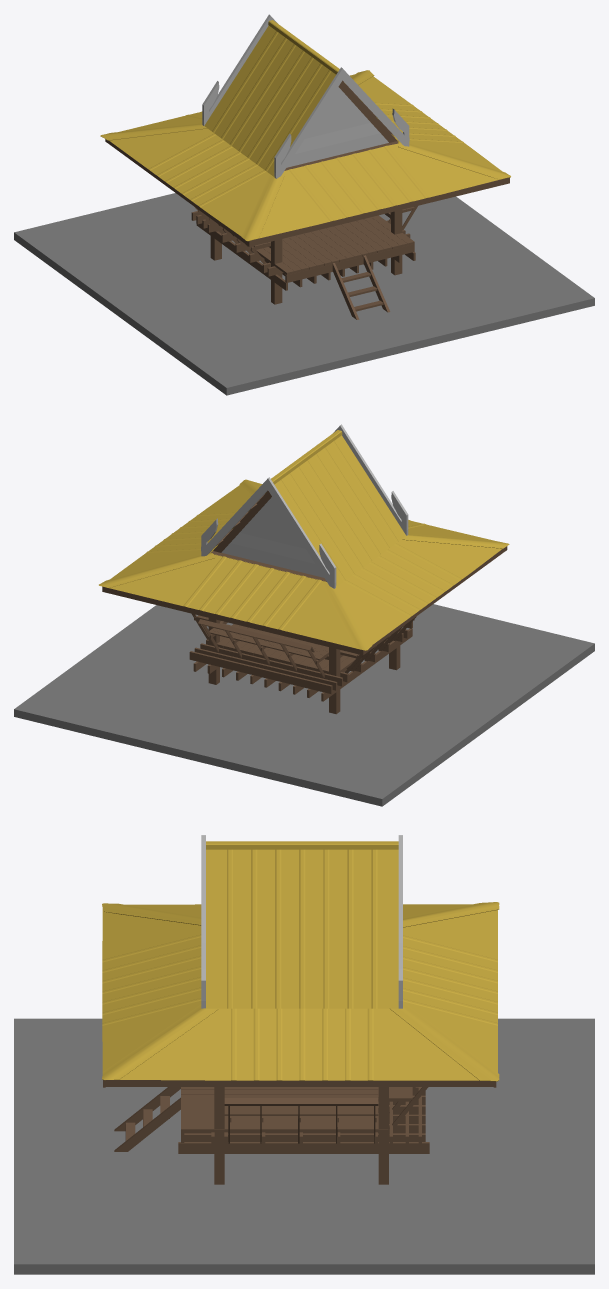
Rendered from sala.glb.
3 renders of one model, top to bottom at view 1: azimuth 30°, elevation 25°; view 2: azimuth 150°, elevation 25°; view 3: azimuth 270°, elevation 25°, orthographic. The views are drawn at different scales.
Visible parts, largest first — view 1: Plane.007_50, Plane.001_26, Plane.003_28, Plane_24, Cube.001_1, Cube.035_39, Cube.037_41, Plane.005_45, Cube.025_29, Cube.004_4, Cube.006_6, Cube.038_42 (+7 smaller); view 2: Plane.007_50, Plane.001_26, Plane.002_27, Plane_24, Cube.036_40, Cube.038_42, Cube.021_22, Plane.006_46, Cube.001_1, Cube.026_30, Cube.008_8, Cube.004_4 (+9 smaller); view 3: Plane.007_50, Plane_24, Plane.001_26, Plane.003_28, Plane.002_27, Cube.001_1, Cube.020_21, Plane.006_46, Plane.005_45, Cube.005_5, Cube.027_31, Cube.004_4 (+6 smaller).
Boxes of the visible parts, x1,y1,x2,y2 form: Plane.007_50: (14, 193, 594, 395); Plane.001_26: (109, 76, 501, 236); Plane.003_28: (259, 143, 498, 238); Plane_24: (204, 20, 378, 176); Cube.001_1: (218, 215, 414, 274); Cube.035_39: (286, 87, 388, 167); Cube.037_41: (274, 67, 409, 178); Plane.005_45: (241, 141, 510, 241); Cube.025_29: (248, 177, 509, 246); Cube.004_4: (196, 223, 401, 290); Cube.006_6: (285, 244, 414, 282); Cube.038_42: (202, 14, 277, 125); Plane.007_50: (14, 604, 594, 806); Plane.001_26: (110, 485, 502, 644); Plane.002_27: (109, 554, 355, 648); Plane_24: (231, 430, 406, 586); Cube.036_40: (221, 497, 323, 577); Cube.038_42: (201, 477, 336, 588); Cube.021_22: (198, 619, 328, 677); Plane.006_46: (99, 552, 372, 650); Cube.001_1: (217, 624, 404, 673); Cube.026_30: (102, 586, 364, 655); Cube.008_8: (189, 651, 332, 693); Cube.004_4: (207, 628, 412, 701); Plane.007_50: (14, 1018, 594, 1274); Plane_24: (206, 841, 398, 1008); Plane.001_26: (119, 904, 478, 1080); Plane.003_28: (102, 911, 201, 1071); Plane.002_27: (403, 910, 497, 1072); Cube.001_1: (181, 1087, 388, 1132); Cube.020_21: (224, 1098, 378, 1143); Plane.006_46: (390, 902, 499, 1081); Plane.005_45: (102, 903, 218, 1080); Cube.005_5: (178, 1142, 429, 1153); Cube.027_31: (105, 1080, 493, 1086); Cube.004_4: (184, 1087, 425, 1141).
Bounding box in the file's own units: 16 × 9.63 × 16.
